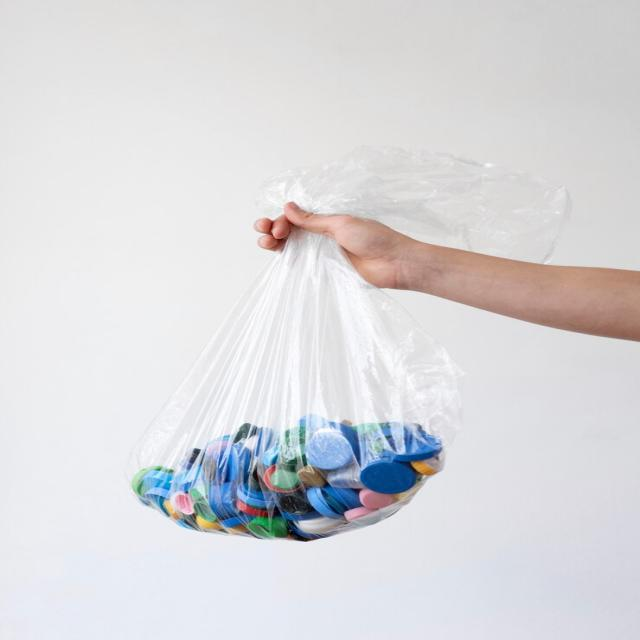plastic_bag: (92, 128, 594, 575)
